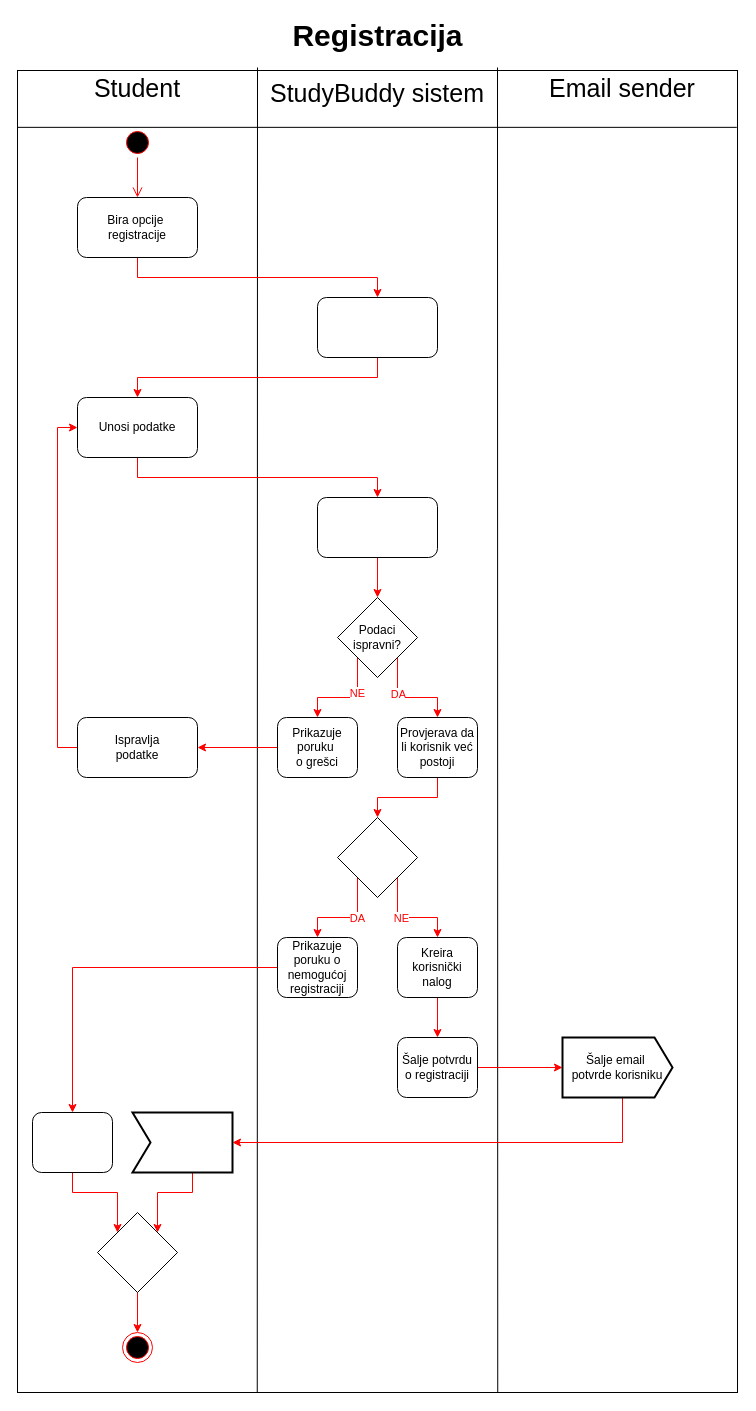
Image size: 756x1411. Some labels were removed from this diagram. Each missing label, with the box of its shape:
Korisnik postoji?: (336, 816, 418, 898)
Prekid registracije/ Prelazak na prijavu: (32, 1112, 112, 1172)
Prikazuje forme za registraciju: (316, 296, 438, 358)
Prima potvrdu o registraciji: (131, 1111, 233, 1173)
Validira unesene podatke: (316, 496, 438, 558)
